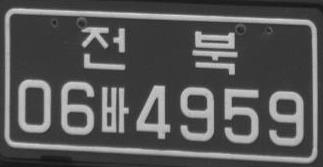전북_D: (80, 26, 237, 74)
